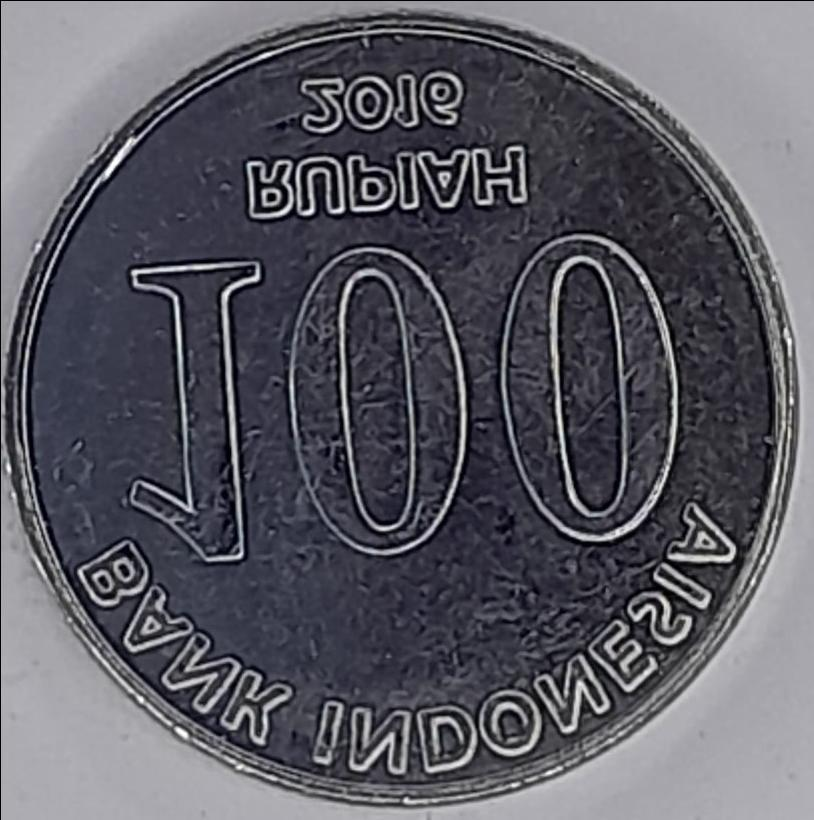coin_100_e2016: (0, 3, 805, 809)
